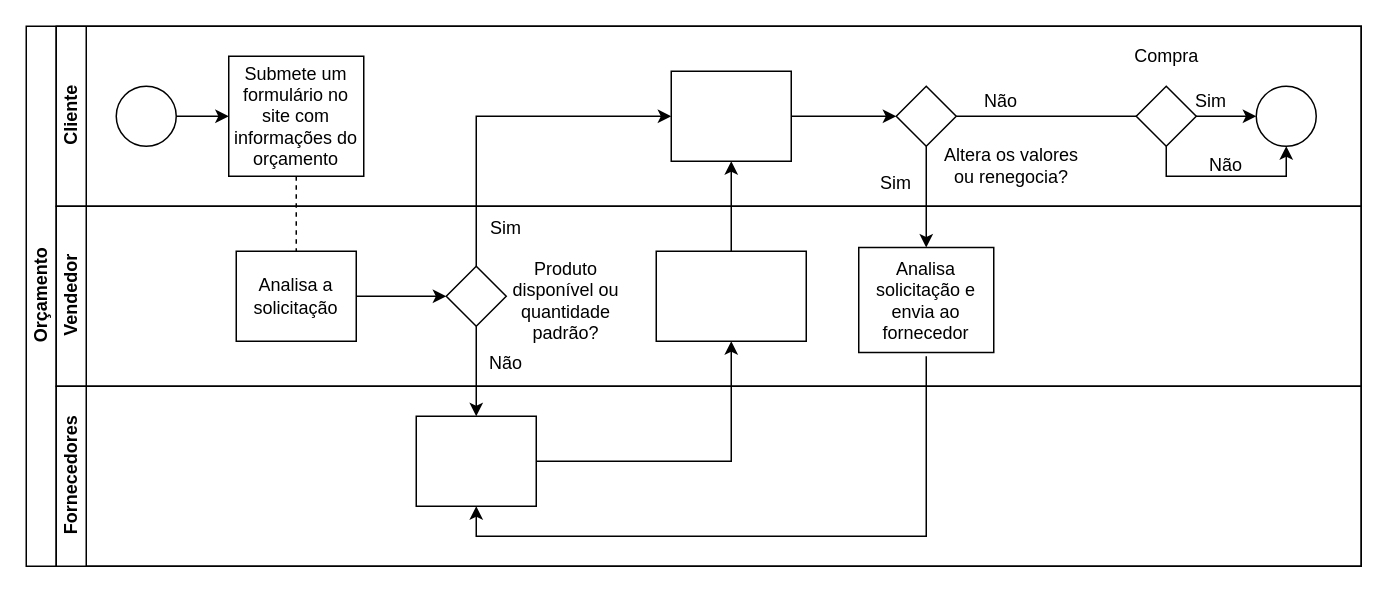
This 1388x593 diagram has some shape labels left out. Here are the shapes that lost their labels. From the top down, the centre of each, then its label:
At pixel 730 115: "Analisa os valores".
At pixel 730 295: "Formata o orçamento e envia ao cliente".
At pixel 475 460: "Verifica o estoque e preços".
